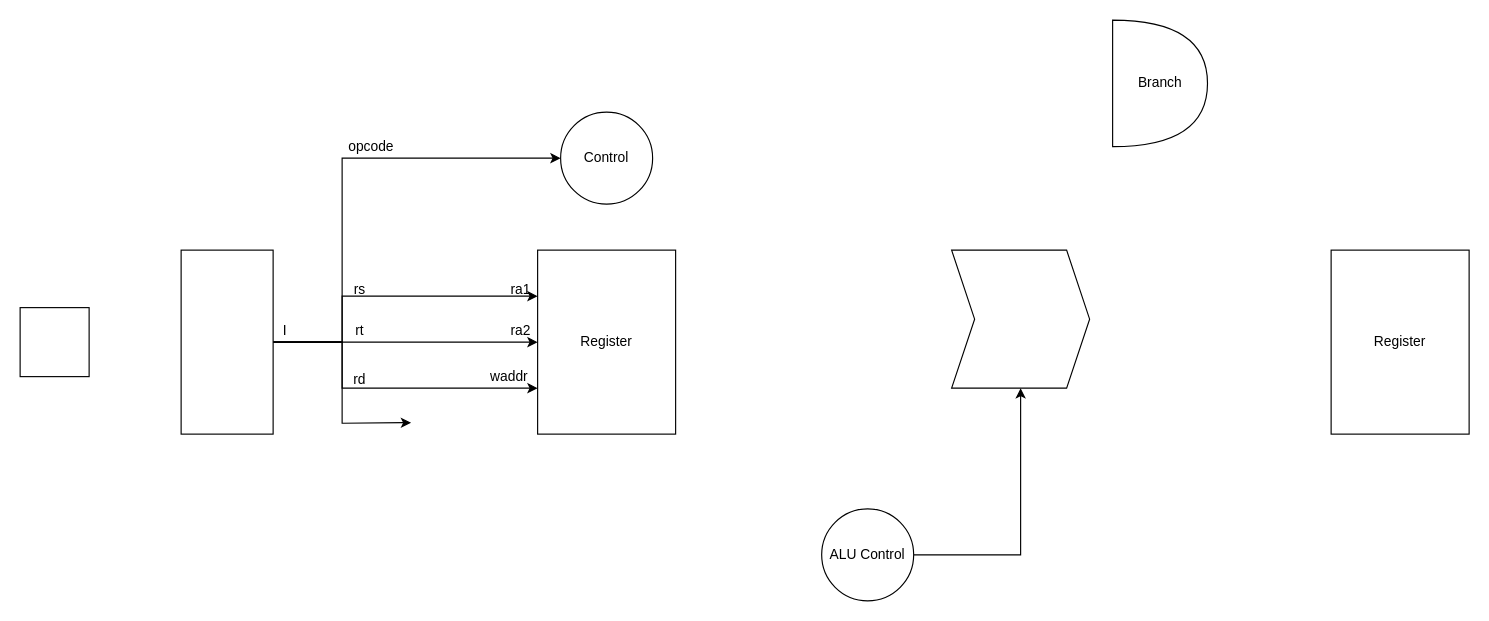
The diagram is 1489 pixels wide and 621 high, and some of its shapes have lost their labels. The shapes that lost their labels are listed below. From the top down, each one's box as (x1, y1, x2, y2) in pixels, then its label:
(950, 249, 1090, 388): ALU
(19, 306, 89, 377): PC
(180, 249, 273, 434): Instruction (text segment)
